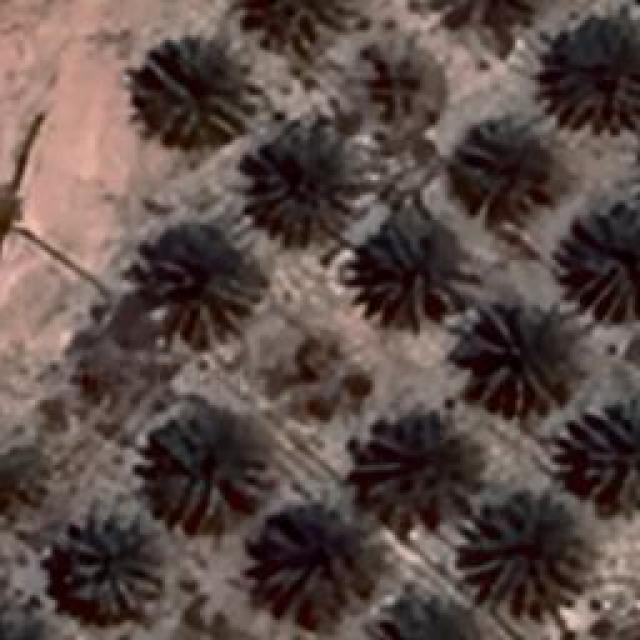PalmTree: (88, 79, 414, 471), (460, 490, 585, 610), (240, 125, 365, 240), (358, 218, 480, 332), (140, 42, 258, 148), (260, 502, 378, 600), (154, 425, 268, 525), (448, 125, 558, 225), (142, 240, 255, 335), (544, 18, 638, 132), (560, 198, 638, 320), (467, 305, 555, 413), (68, 522, 162, 612), (574, 397, 638, 505), (225, 0, 348, 50), (377, 595, 482, 640), (0, 432, 44, 516), (430, 0, 544, 24), (0, 598, 64, 640)
